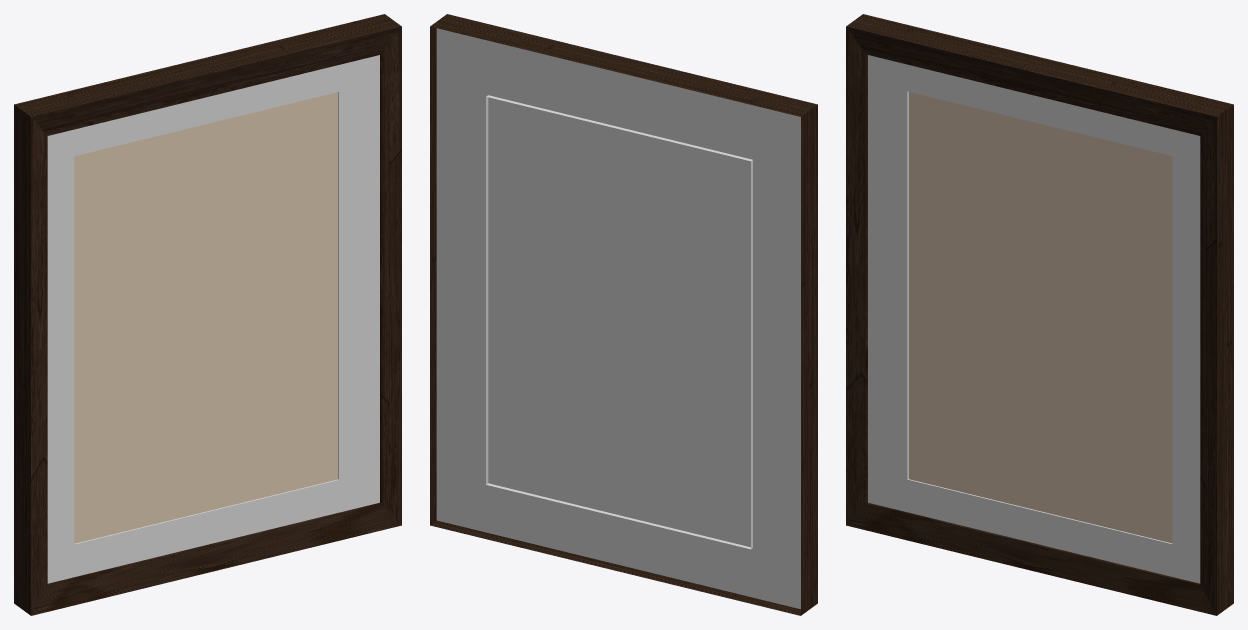
The model's file is frame.glb.
The picture shows the model from 3 angles, left to right: view 1: azimuth 30°, elevation 25°; view 2: azimuth 150°, elevation 25°; view 3: azimuth 330°, elevation 25°; orthographic projection.
Parts seen in each view (by area): view 1: Painting, Frame, Passepartout; view 2: Passepartout, Frame; view 3: Painting, Frame, Passepartout.
Part boxes in pixels (x1,y1,x2,y2): Painting: (74,92,338,543); Frame: (14,14,401,615); Passepartout: (47,55,379,583); Passepartout: (436,28,800,609); Frame: (430,14,817,615); Painting: (909,92,1172,543); Frame: (846,14,1233,615); Passepartout: (868,55,1200,583).
Size of what is drawn, in the model's own units: 35 by 45 by 2.8.
3 materials, 1 textured.
